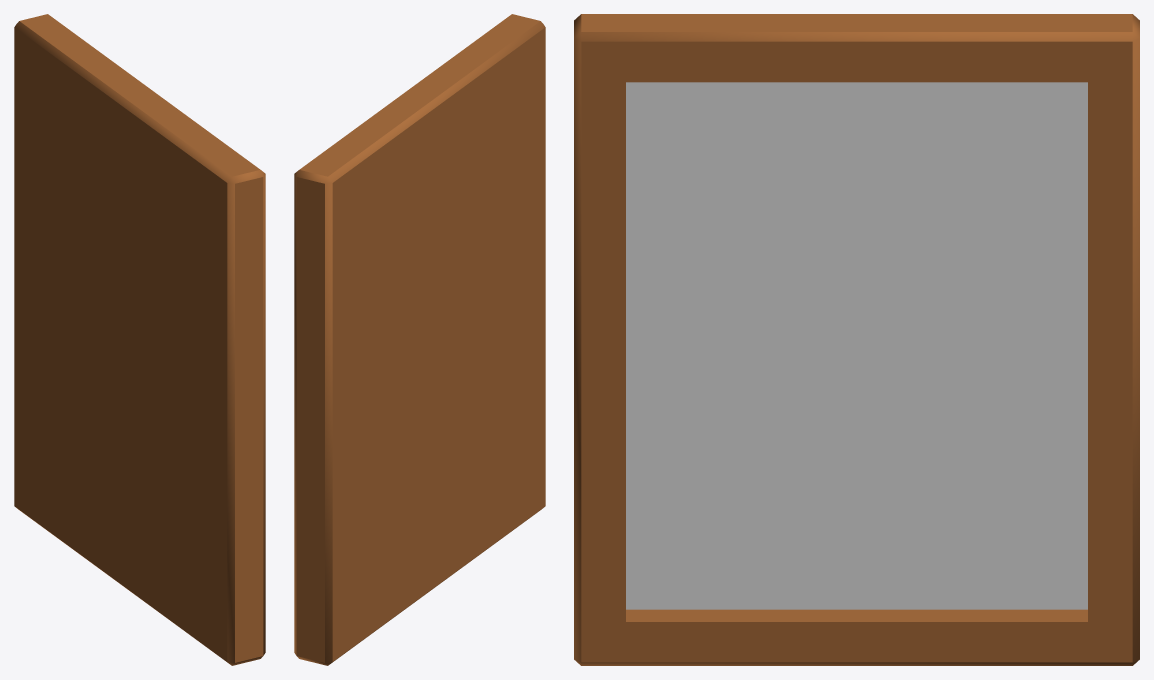
The model's file is Asset022_Quadro.fbx.
3 views of the same model, side by side, from view 1: azimuth 30°, elevation 25°; view 2: azimuth 150°, elevation 25°; view 3: azimuth 270°, elevation 25° (orthographic). The views are drawn at different scales.
Parts seen in each view (by area): view 1: Moldura; view 2: Moldura; view 3: Textura_aqui, Moldura.
Part boxes in pixels (x1,y1,x2,y2): Moldura: (14, 14, 265, 665); Moldura: (294, 14, 545, 665); Textura_aqui: (626, 82, 1087, 609); Moldura: (574, 14, 1139, 665).
Size of the model in its own units: 6.16 by 75.24 by 60.88.
